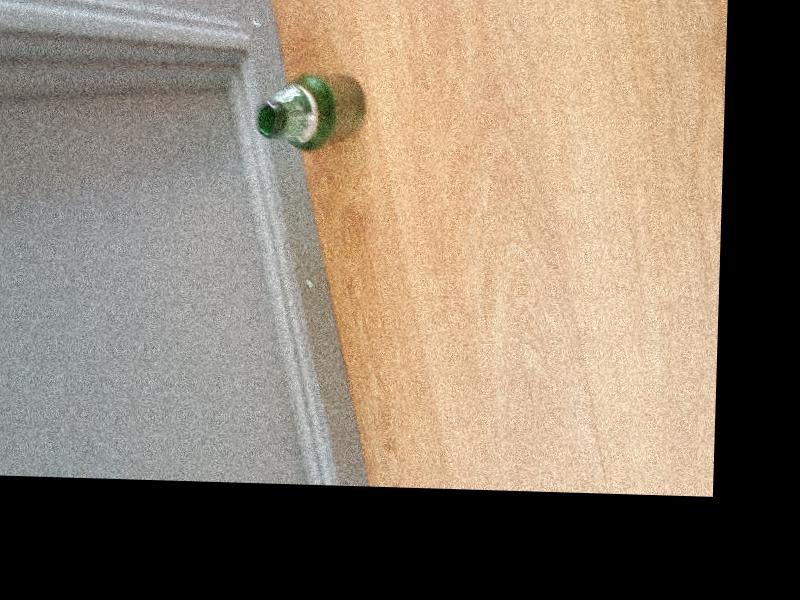Beer: (256, 73, 365, 152)
